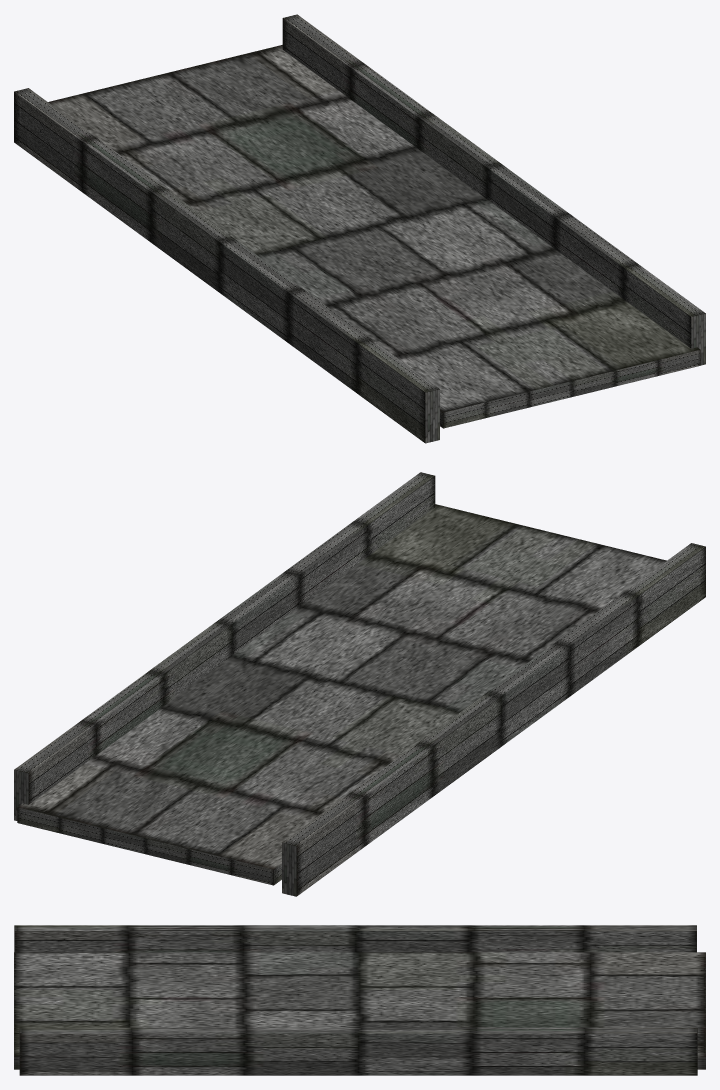
Rendered from piso.fbx.
3 views of the same model, one above another, from view 1: azimuth 30°, elevation 25°; view 2: azimuth 150°, elevation 25°; view 3: azimuth 270°, elevation 25° (orthographic). The views are drawn at different scales.
Parts seen in each view (by area): view 1: Cube, Cube.001, Cube.002; view 2: Cube, Cube.001, Cube.002; view 3: Cube, Cube.002, Cube.001.
Part boxes in pixels (<box>): Cube: <box>48,45,700,428</box>; Cube.001: <box>14,88,439,443</box>; Cube.002: <box>282,14,705,365</box>; Cube: <box>17,504,666,885</box>; Cube.001: <box>282,543,705,896</box>; Cube.002: <box>14,472,435,820</box>; Cube: <box>14,952,705,1069</box>; Cube.002: <box>19,1027,697,1075</box>; Cube.001: <box>14,925,696,952</box>.
Bounding box in the file's own units: 510 × 101 × 1300.
